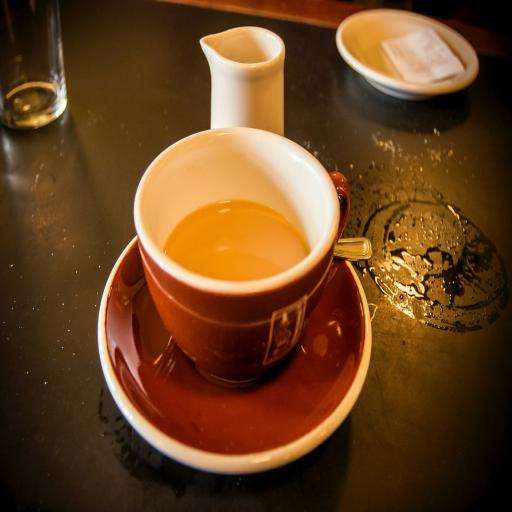phone: (134, 125, 351, 389)
